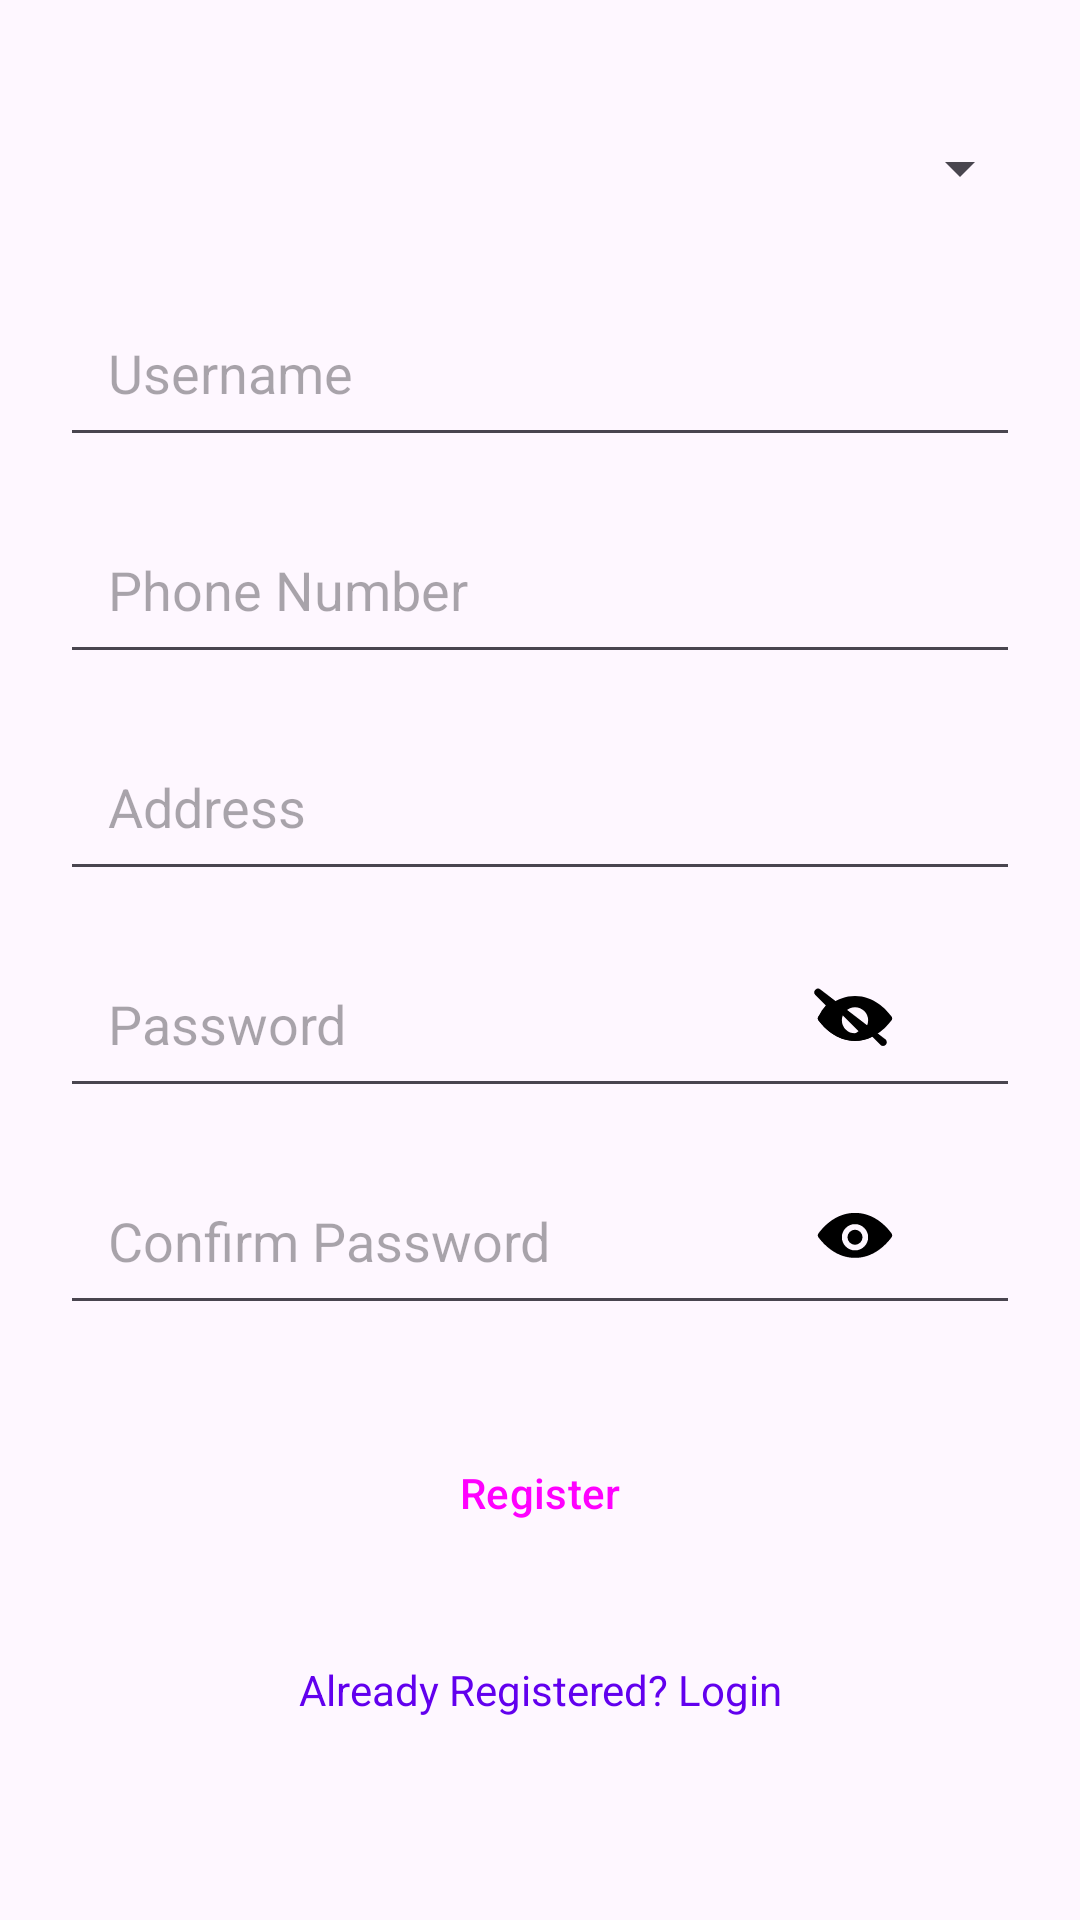

Icon click points for this 1080 × 1920 phone screenshot, format (x=x, y=y):
eye closed: (x=853, y=1017)
eye open: (x=855, y=1235)
